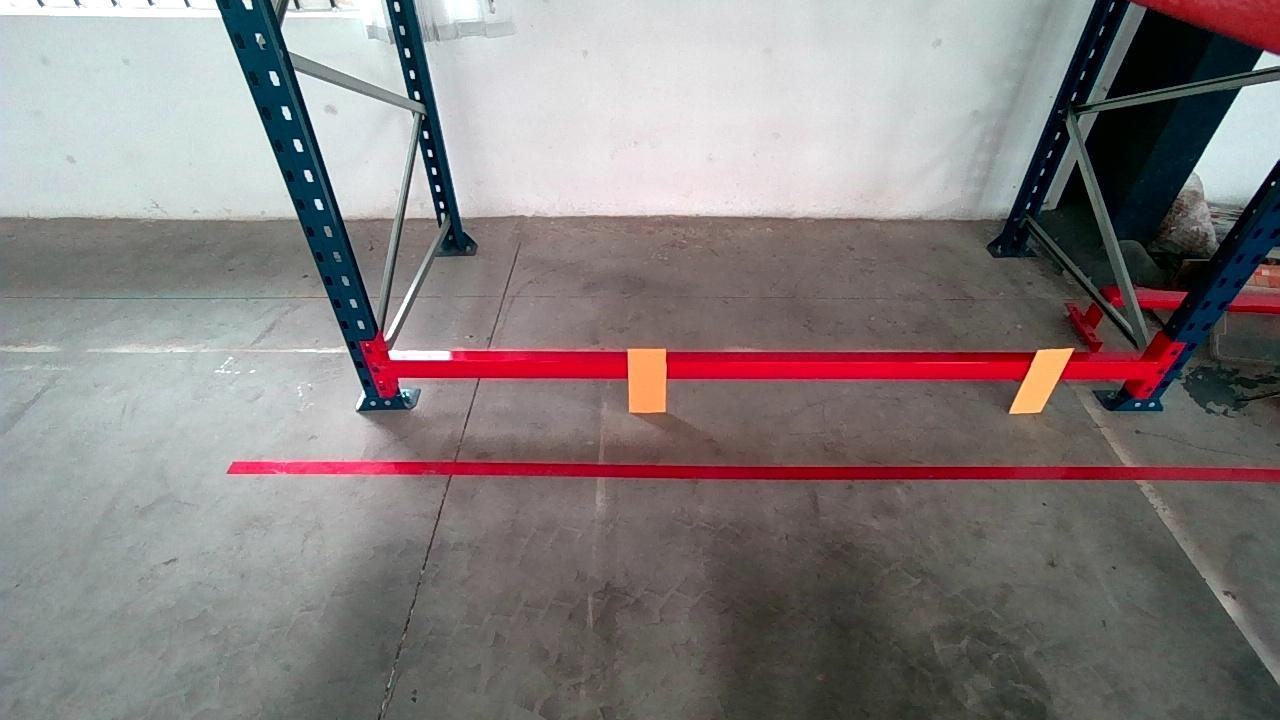h_rack: (387, 359, 1155, 380)
orange_strip: (1009, 347, 1078, 412), (628, 346, 667, 412)
red_line: (227, 458, 1280, 484)
